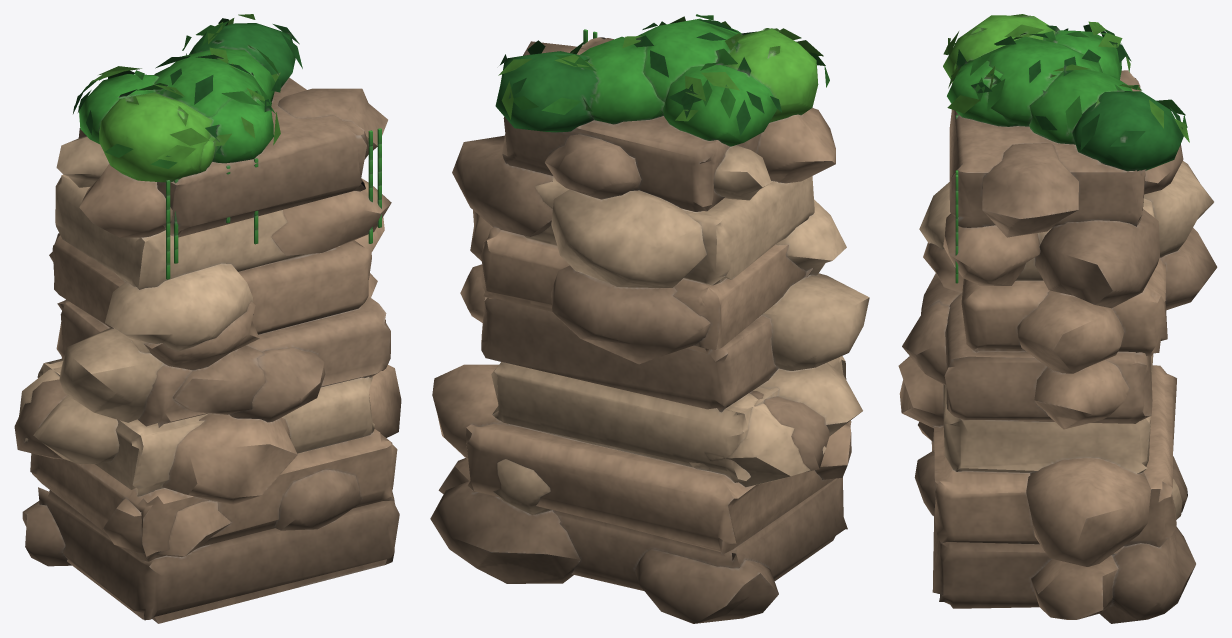
Rendered from en_cliff.glb.
3 renders of one model, left to right at view 1: azimuth 30°, elevation 25°; view 2: azimuth 150°, elevation 25°; view 3: azimuth 270°, elevation 25°, orthographic. The views are drawn at different scales.
Visible parts, largest first — view 1: en_cliff; view 2: en_cliff; view 3: en_cliff.
Boxes of the visible parts, bbox=[...] form: en_cliff: bbox=[14, 14, 401, 623]; en_cliff: bbox=[430, 14, 869, 623]; en_cliff: bbox=[898, 14, 1217, 623].
Bounding box in the file's own units: 13.07 × 16.66 × 9.44.
6 materials, 6 textured.
